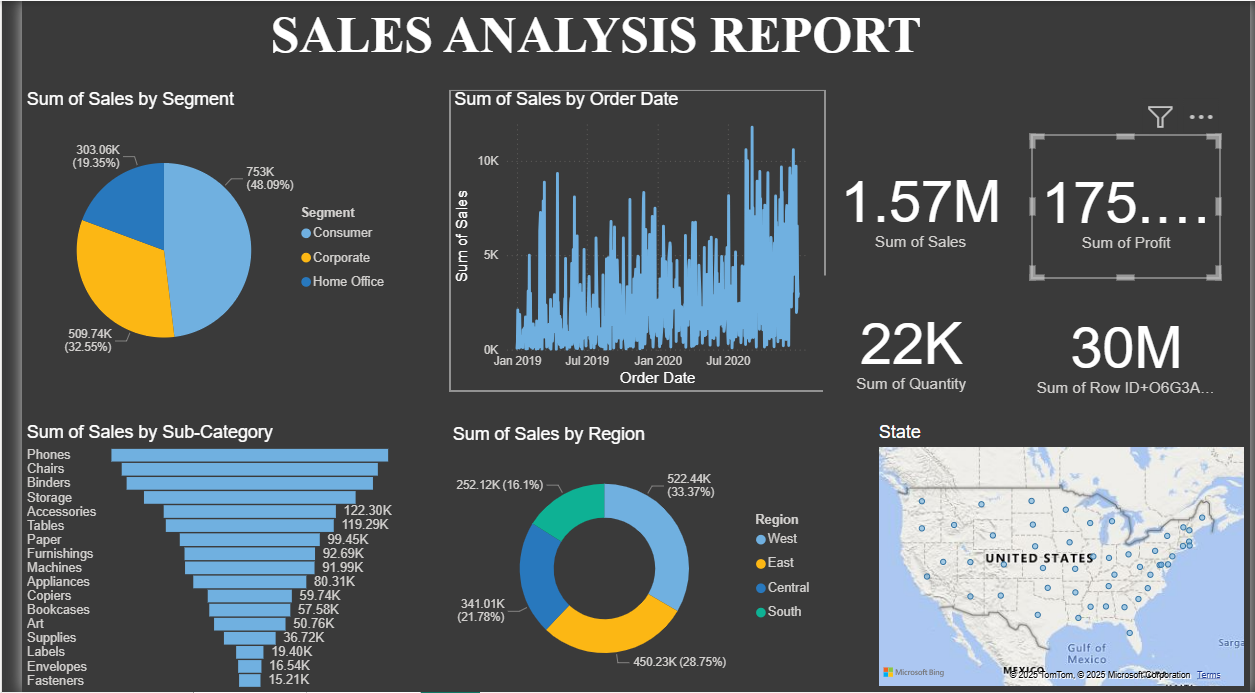

This screenshot's page, from the dashboard's own definition file:
{"tool":"powerbi","page":{"name":"Page 1","canvas":[1280,720],"ordinal":0},"visuals":[{"type":"donutChart","fields":{"Category":["Sheet1.Region"],"Y":["Sum(Sheet1.Sales)"]},"box":[444.1,440.3,391.2,279.7],"z":0},{"type":"funnel","fields":{"Category":["Sheet1.Sub-Category"],"Y":["Sum(Sheet1.Sales)"]},"box":[0,438.4,391.2,281.6],"z":1000},{"type":"map","fields":{"Category":["Sheet1.State"]},"box":[888.2,438.4,391.2,279.7],"z":2000},{"type":"pieChart","fields":{"Category":["Sheet1.Segment"],"Y":["Sum(Sheet1.Sales)"]},"box":[0,92.6,391.2,313.7],"z":3000},{"type":"lineChart","fields":{"Category":["Sheet1.Order Date"],"Y":["Sum(Sheet1.Sales)"]},"box":[446,92.6,391.2,313.7],"z":4000},{"type":"card","fields":{"Values":["Sum(Sheet1.Sales)"]},"box":[837.2,162.5,196.5,100.2],"z":5000},{"type":"card","fields":{"Values":["Sum(Sheet1.Profit)"]},"box":[1052.6,139.8,196.5,149.3],"z":6000},{"type":"card","fields":{"Values":["Sum(Sheet1.Quantity)"]},"box":[835.3,285.4,183.3,149.3],"z":7000},{"type":"card","fields":{"Values":["Sum(Sheet1.Row ID+O6G3A1:R6)"]},"box":[1052.6,291,196.5,149.3],"z":8000},{"type":"textbox","box":[83.2,0,1043.2,92.6],"z":9000}]}

Visuals, with their boxes in screenshot pixels (x1, y1, x2, y2), scaled from the page's 1280x720 canvas onto the 1255x693 screenshot:
donutChart - Sheet1.Region x Sum(Sheet1.Sales): region(435, 424, 819, 692)
funnel - Sheet1.Sub-Category x Sum(Sheet1.Sales): region(0, 422, 384, 692)
map - Sheet1.State: region(871, 422, 1254, 691)
pieChart - Sheet1.Segment x Sum(Sheet1.Sales): region(0, 89, 384, 391)
lineChart - Sheet1.Order Date x Sum(Sheet1.Sales): region(437, 89, 821, 391)
card - Sum(Sheet1.Sales): region(821, 156, 1014, 253)
card - Sum(Sheet1.Profit): region(1032, 135, 1225, 278)
card - Sum(Sheet1.Quantity): region(819, 275, 999, 418)
card - Sum(Sheet1.Row ID+O6G3A1:R6): region(1032, 280, 1225, 424)
textbox: region(82, 0, 1104, 89)
